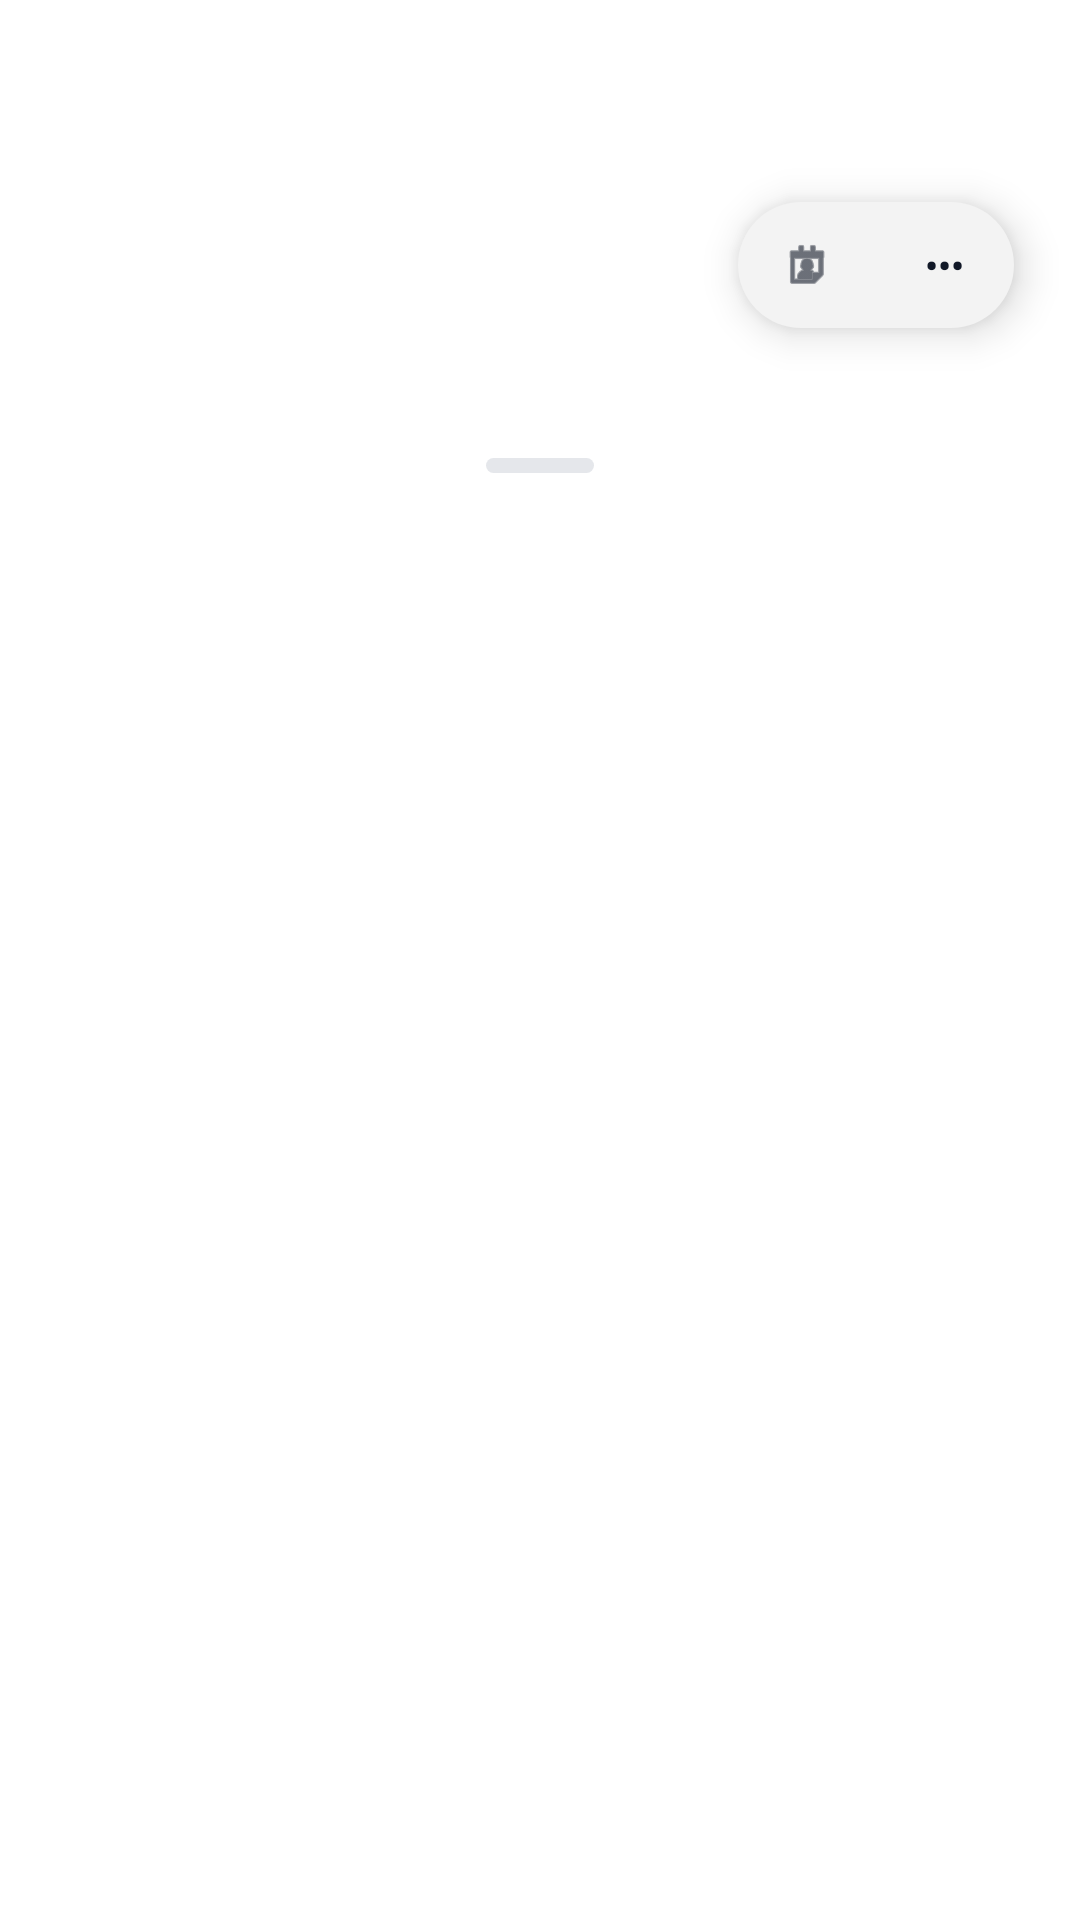

Locate icon controls on the screen. Image size 1080w x 1920h, boxes as bbox=[x1, y1, x2, y2].
calendar: bbox=[789, 245, 825, 284]
